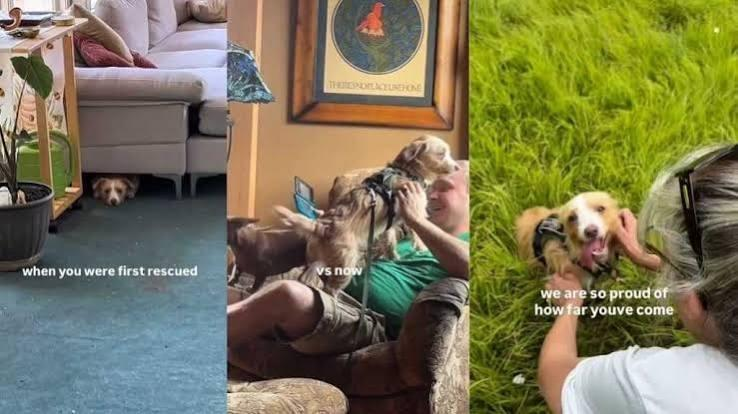adult_dog: (283, 134, 463, 294), (514, 191, 631, 304)
puppy-dog: (91, 172, 140, 208)
